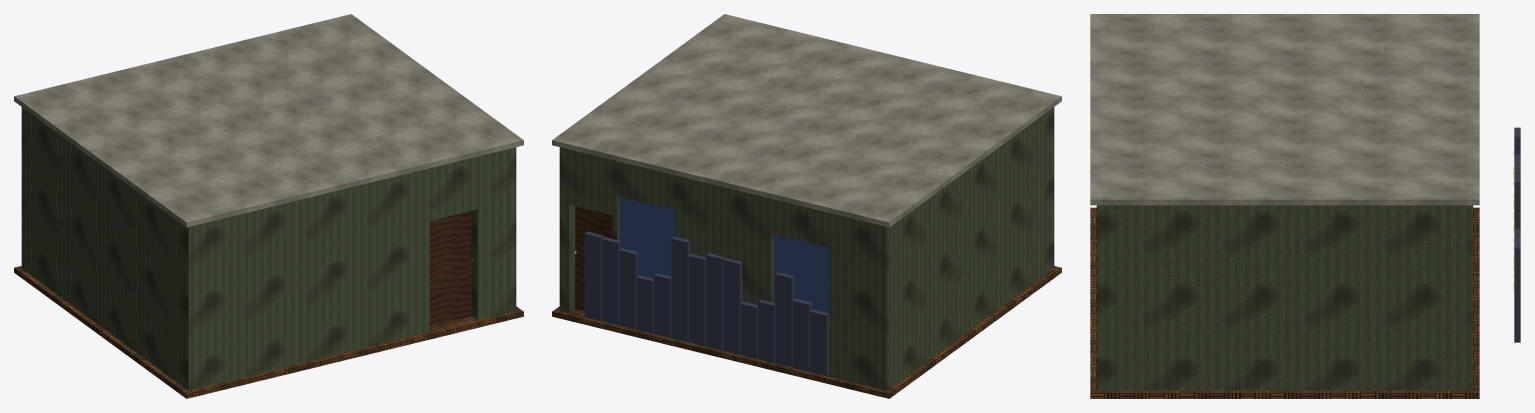
Rendered from gabinete.glb.
The picture shows the model from 3 angles, left to right: view 1: azimuth 30°, elevation 25°; view 2: azimuth 150°, elevation 25°; view 3: azimuth 270°, elevation 25°; orthographic projection. The views are drawn at different scales.
Visible parts, largest first — view 1: wallpaper-col, plaster-col, parquet_square-col, wood_dark-col; view 2: plaster-col, wallpaper-col, flat.010, flat, parquet_square-col, wood_dark-col; view 3: plaster-col, wallpaper-col, parquet_square-col, flat.010.
Boxes of the visible parts, <box> form: wallpaper-col: <box>21,107,516,390</box>; plaster-col: <box>14,14,523,227</box>; parquet_square-col: <box>14,266,523,398</box>; wood_dark-col: <box>429,211,471,326</box>; plaster-col: <box>552,14,1061,227</box>; wallpaper-col: <box>559,107,1054,390</box>; flat.010: <box>584,231,829,375</box>; flat: <box>619,197,829,326</box>; parquet_square-col: <box>552,266,1061,398</box>; wood_dark-col: <box>575,206,612,311</box>; plaster-col: <box>1090,14,1479,205</box>; wallpaper-col: <box>1096,205,1473,390</box>; parquet_square-col: <box>1090,207,1479,398</box>; flat.010: <box>1514,127,1520,342</box>.
Size of the model in its own units: 7 by 3.5 by 6.85.
59 materials, 31 textured.
